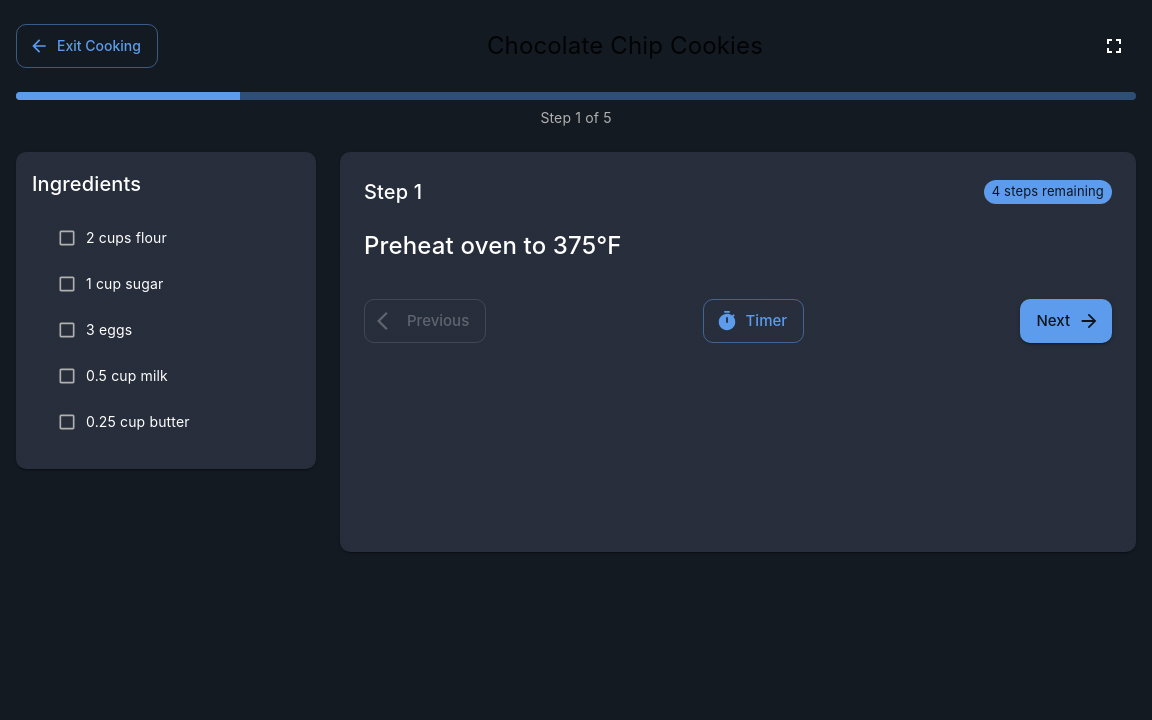
Test: CookingMode Component › Step Navigation › should navigate to next step
Expected: the heading "Step 1" is shown, top-left (364, 176), bottom-right (422, 208)
Click the button "Next".
click(1066, 321)  # box top-left (1020, 299), bottom-right (1112, 343)
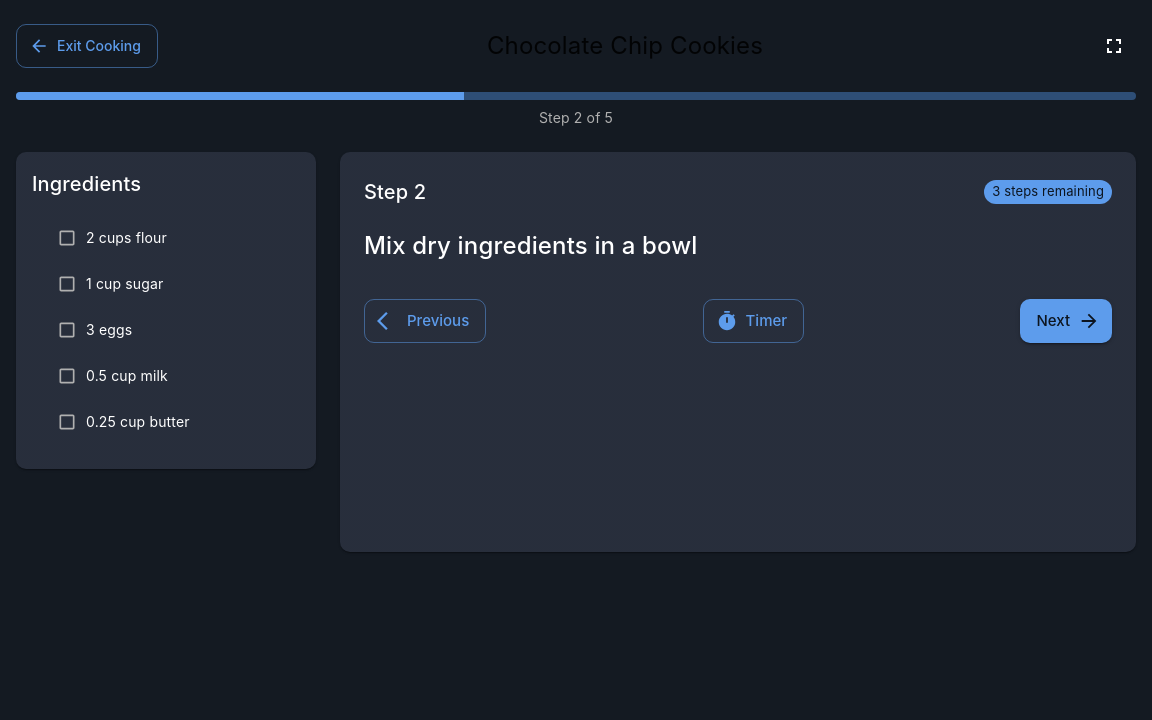
Result: the heading "Step 2" is shown at top-left (364, 176), bottom-right (426, 208)
Result: the text "Mix dry ingredients in a bowl" is shown at top-left (364, 231), bottom-right (698, 260)
